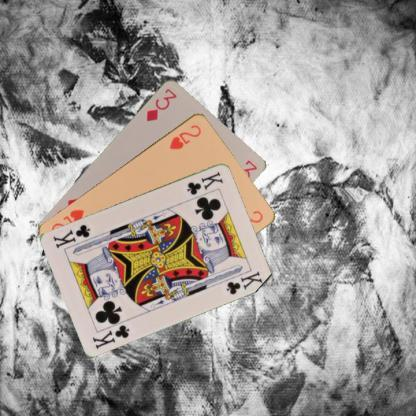2h: (166, 121, 202, 151)
3d: (143, 86, 178, 122)
Kc: (90, 322, 132, 350), (184, 168, 225, 196)
